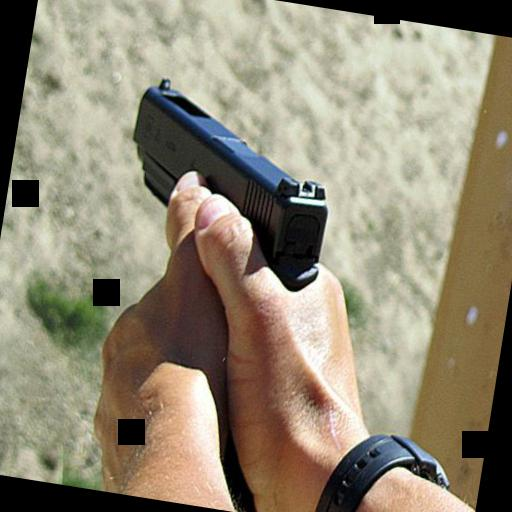Handgun: (98, 64, 348, 334)
